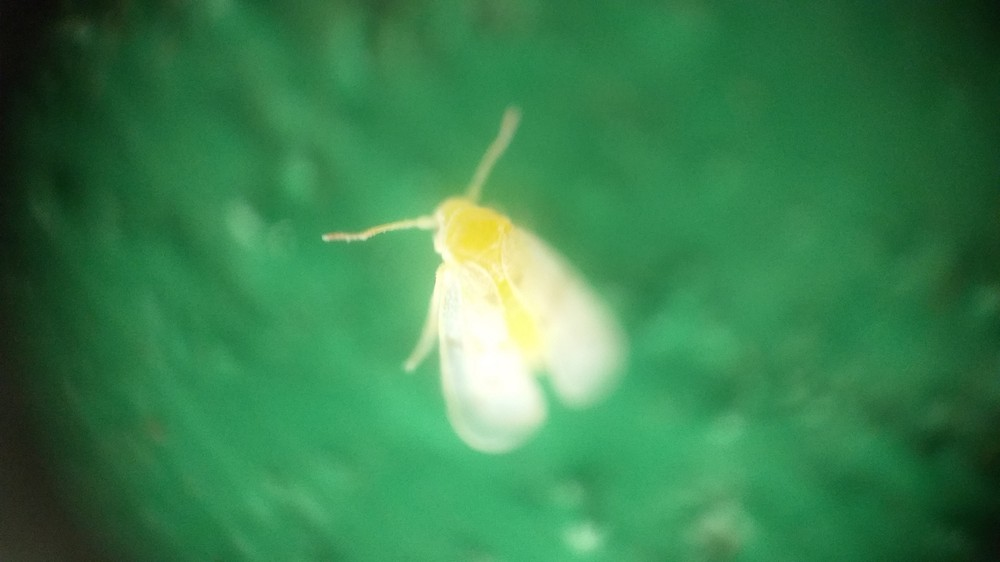Mosca Blanca: (314, 91, 642, 470)
